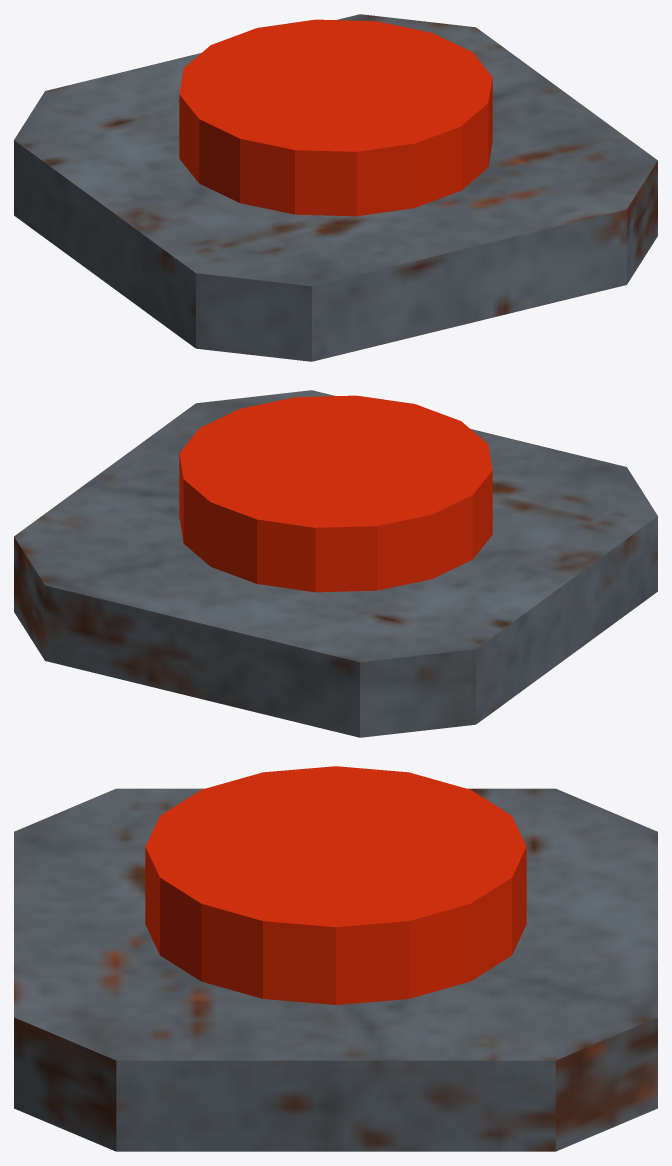
The model's file is Button1.glb.
3 views of the same model, one above another, from view 1: azimuth 30°, elevation 25°; view 2: azimuth 150°, elevation 25°; view 3: azimuth 270°, elevation 25° (orthographic). The views are drawn at different scales.
Visible parts, largest first — view 1: Button1, Pad; view 2: Button1, Pad; view 3: Button1, Pad.
Boxes of the visible parts, bbox=[...] form: Button1: bbox=[14, 14, 657, 361]; Pad: bbox=[179, 19, 492, 216]; Button1: bbox=[14, 390, 657, 737]; Pad: bbox=[179, 395, 492, 592]; Button1: bbox=[14, 788, 657, 1151]; Pad: bbox=[145, 766, 526, 1004].
Size of the model in its own units: 0.4278 by 0.1239 by 0.4278.
Materials: 2 (1 with a texture image).
